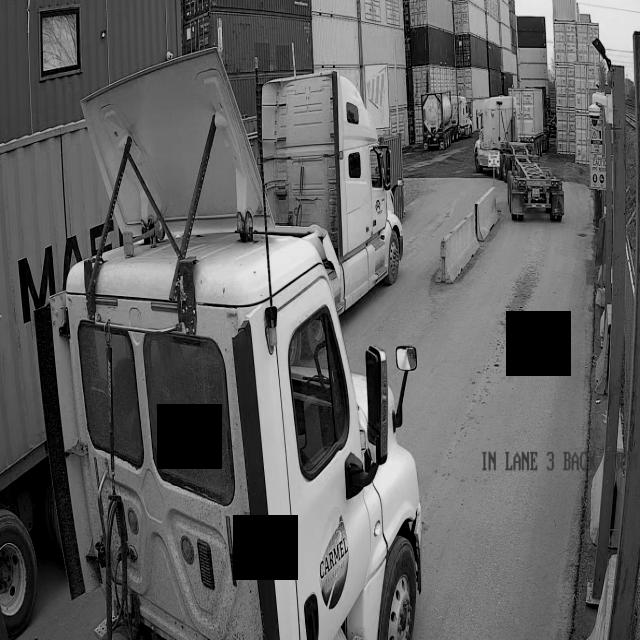truck_cabin: (36, 51, 423, 640)
truck_company: (320, 512, 348, 608)
truck_without_container: (474, 98, 564, 220)
